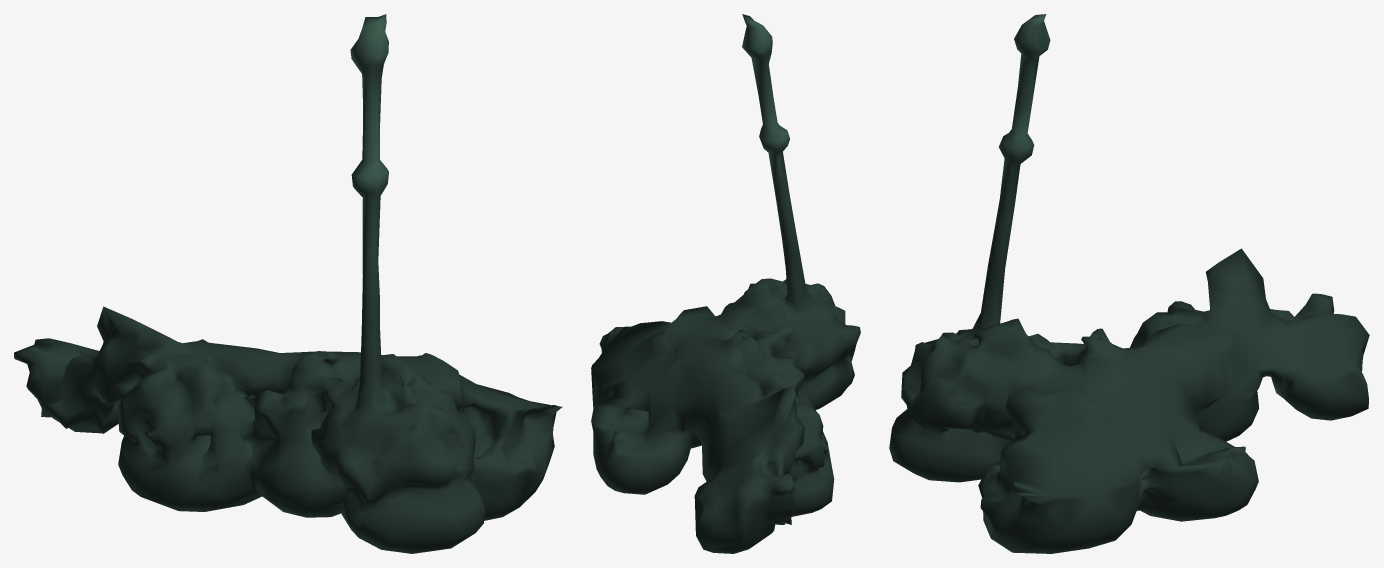
Rendered from provision-sacks.glb.
3 renders of one model, left to right at view 1: azimuth 30°, elevation 25°; view 2: azimuth 150°, elevation 25°; view 3: azimuth 270°, elevation 25°, orthographic. The views are drawn at different scales.
Parts seen in each view (by area): view 1: provision-sacks; view 2: provision-sacks; view 3: provision-sacks.
Part boxes in pixels (x1,y1,x2,y2): provision-sacks: (14,14,562,553); provision-sacks: (591,14,860,553); provision-sacks: (889,14,1369,553).
Size of the model in its own units: 0.0114 by 0.0146 by 0.013.
